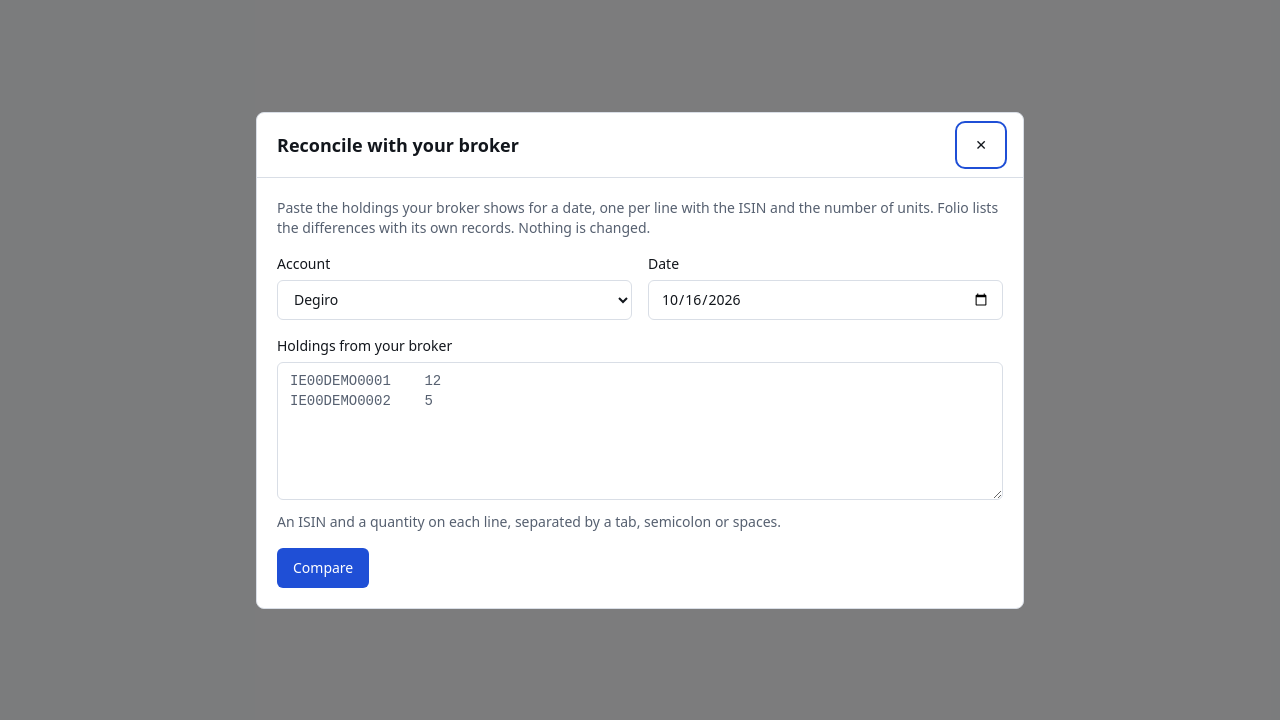
reconcile (FR-TX-10) › asks for something to compare when nothing was pasted
Click the button "Compare": (323, 568) [277,548,369,588]
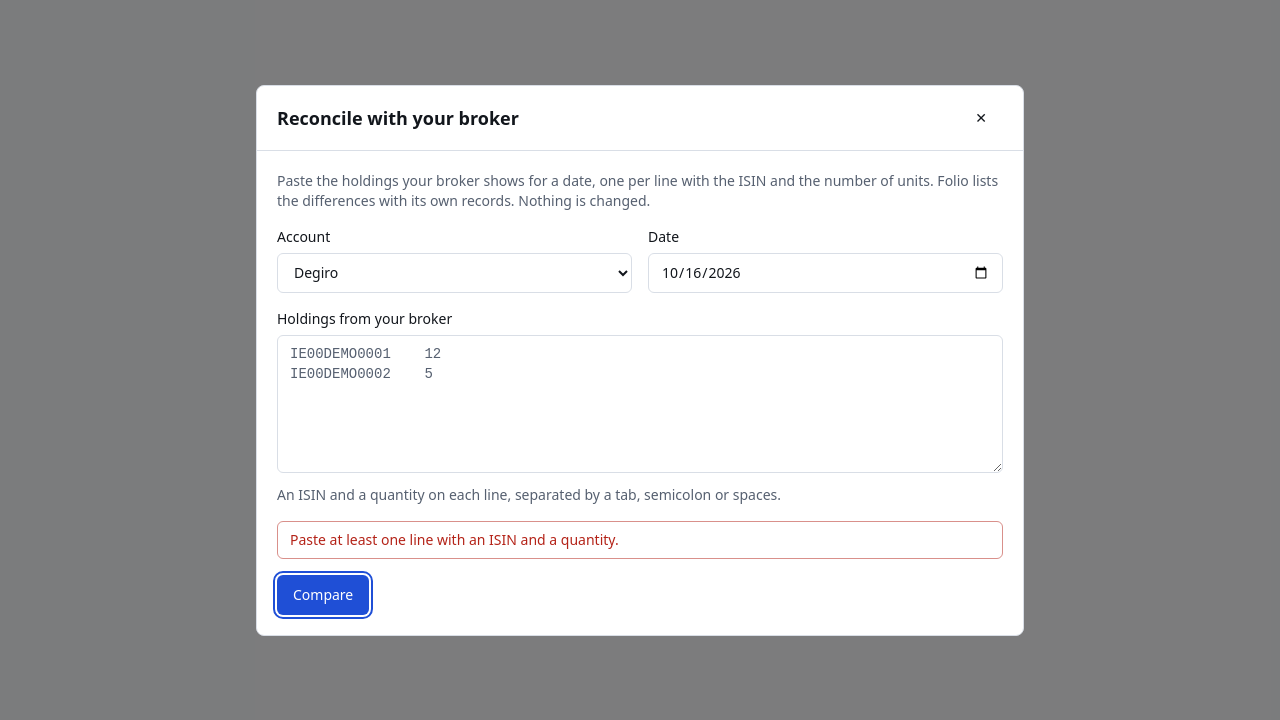
Now the message shows "Paste at least one line", box [290,530,619,548]
